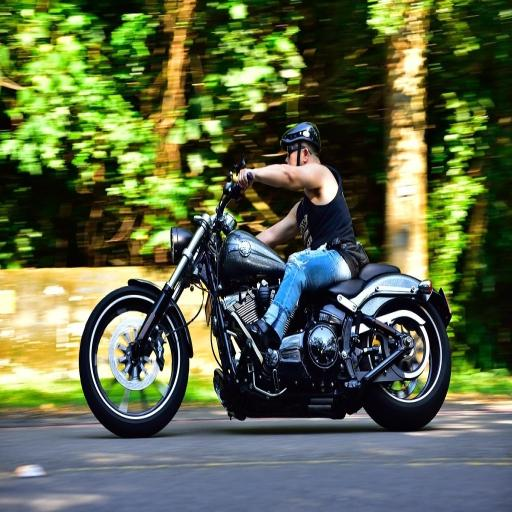Helmet: (278, 121, 322, 152)
